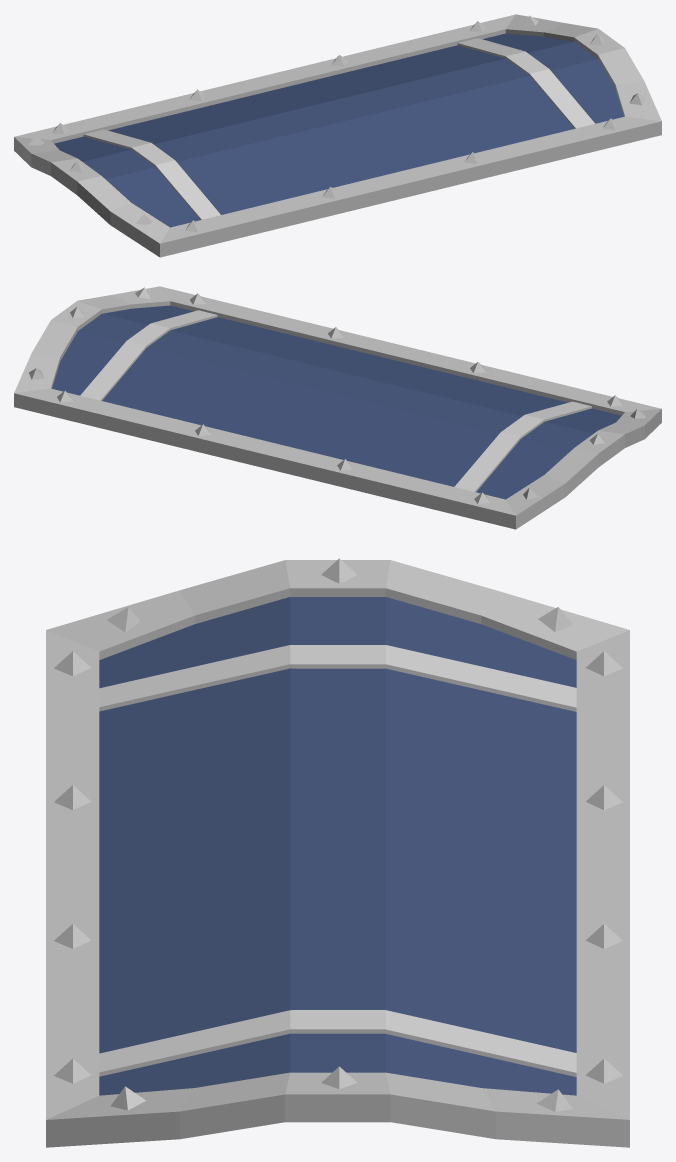
File: Shield_2_c_bl.fbx
3 renders of one model, top to bottom at view 1: azimuth 30°, elevation 25°; view 2: azimuth 150°, elevation 25°; view 3: azimuth 270°, elevation 25°, orthographic. The views are drawn at different scales.
Visible parts, largest first — view 1: Plane.188, Plane.189, Plane.185, Plane.186, Cone.383; view 2: Plane.188, Plane.189, Plane.186, Plane.185, Cone.383; view 3: Plane.188, Plane.189, Plane.185, Plane.186, Cone.383.
Boxes of the visible parts, x1,y1,x2,y2 form: Plane.188: (54,33,623,227); Plane.189: (14,14,661,257); Plane.185: (457,38,595,128); Plane.186: (83,129,220,219); Cone.383: (28,15,645,231); Plane.188: (52,305,621,499); Plane.189: (14,286,661,529); Plane.186: (454,401,591,492); Plane.185: (80,310,217,400); Cone.383: (28,287,646,504); Plane.188: (99,597,576,1095); Plane.189: (46,560,629,1147); Plane.185: (99,1010,576,1076); Plane.186: (99,645,576,711); Cone.383: (54,558,622,1111).
Size of the model in its own units: 132 by 16.24 by 61.17.
